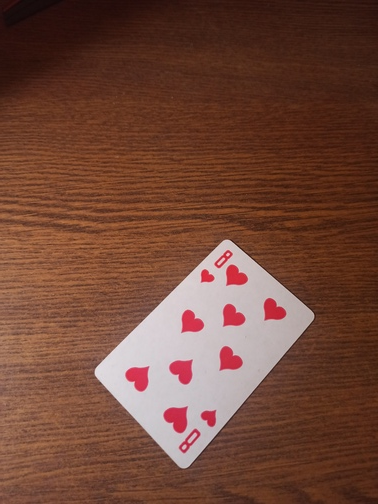eighthearts: (92, 236, 315, 468)
